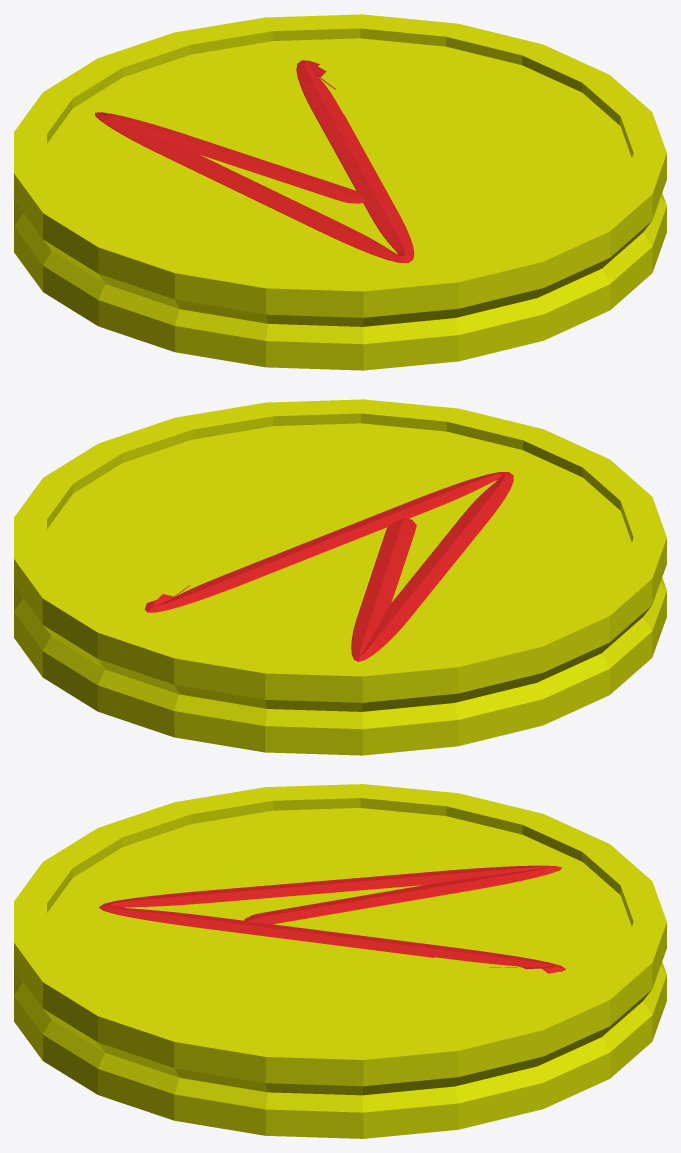
File: coin-3-1.fbx
3 renders of one model, top to bottom at view 1: azimuth 30°, elevation 25°; view 2: azimuth 150°, elevation 25°; view 3: azimuth 270°, elevation 25°, orthographic.
Visible parts, largest first — view 1: Plane.024; view 2: Plane.024; view 3: Plane.024.
Part boxes in pixels (left/top/right/bottom): Plane.024: left=14, top=14, right=666, bottom=370; Plane.024: left=14, top=399, right=666, bottom=755; Plane.024: left=14, top=784, right=666, bottom=1138.
Size of the model in its own units: 3 by 0.4 by 3.
